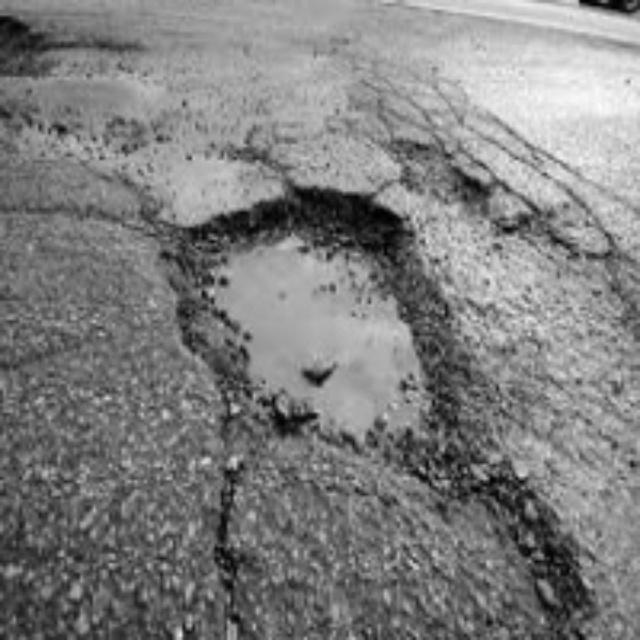Crack: (409, 61, 629, 263)
Pothole: (178, 199, 407, 480), (380, 124, 468, 205), (0, 19, 64, 85)
